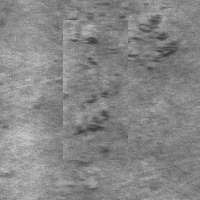rolled-in_scale: (63, 20, 128, 160), (69, 5, 177, 69)
